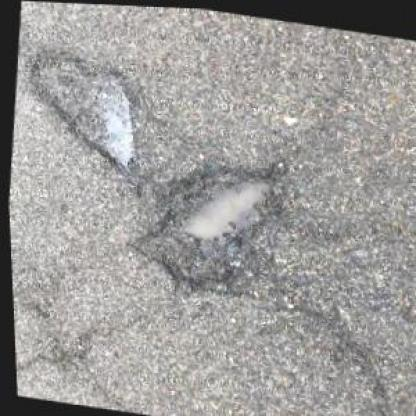pothole: (114, 138, 291, 302), (14, 40, 147, 173)
